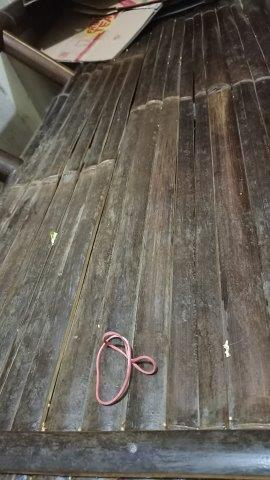karet: (96, 331, 159, 406)
